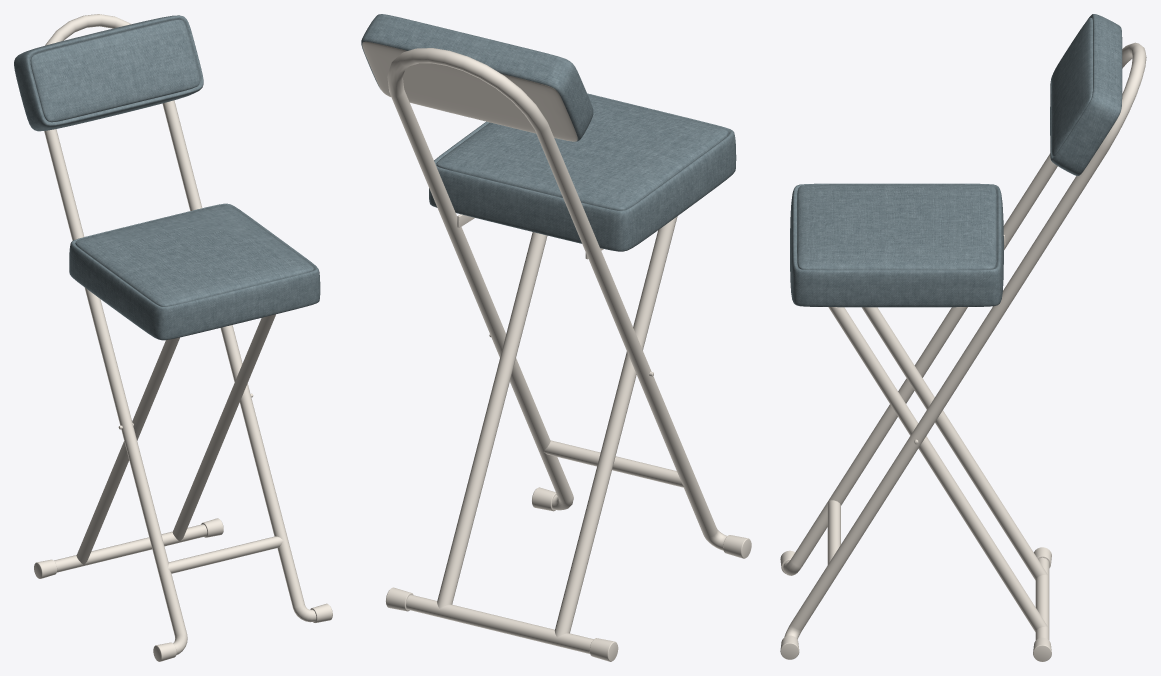
File: chair_51_03.001.fbx
The picture shows the model from 3 angles, left to right: view 1: azimuth 30°, elevation 25°; view 2: azimuth 150°, elevation 25°; view 3: azimuth 270°, elevation 25°; orthographic projection. The views are drawn at different scales.
Visible parts, largest first — view 1: chair_51_03.001; view 2: chair_51_03.001; view 3: chair_51_03.001.
Part boxes in pixels (x1=…): chair_51_03.001: x1=14, y1=14, x2=332, y2=661; chair_51_03.001: x1=361, y1=14, x2=751, y2=661; chair_51_03.001: x1=780, y1=14, x2=1146, y2=661.
Bounding box in the file's own units: 33.43 × 89.35 × 52.68.
Materials: 1 (1 with a texture image).
